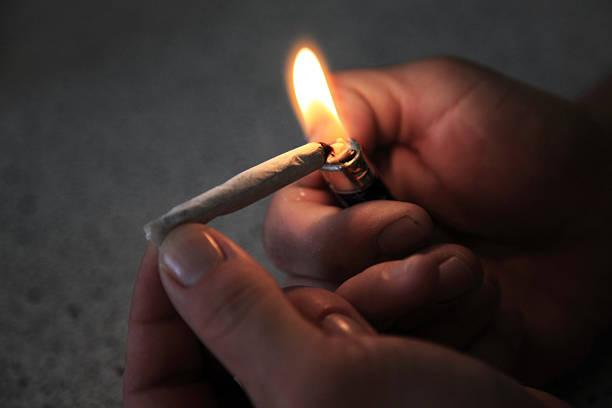Fire: (285, 46, 342, 144)
